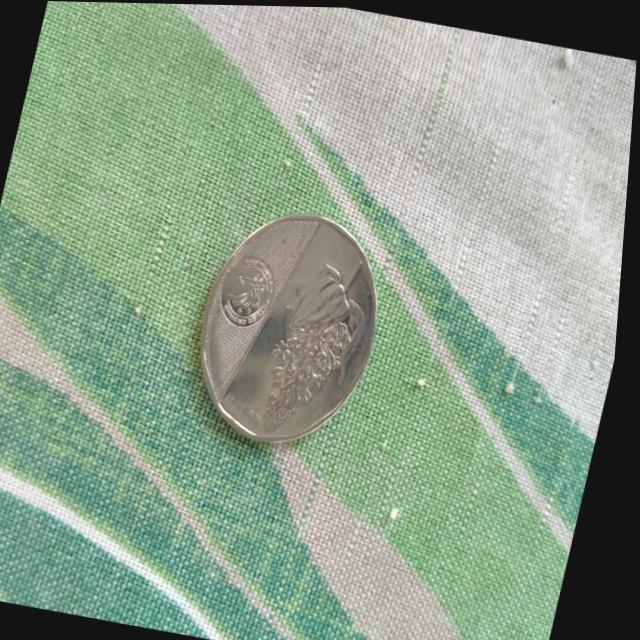10_New_Back: (254, 239, 393, 448)
